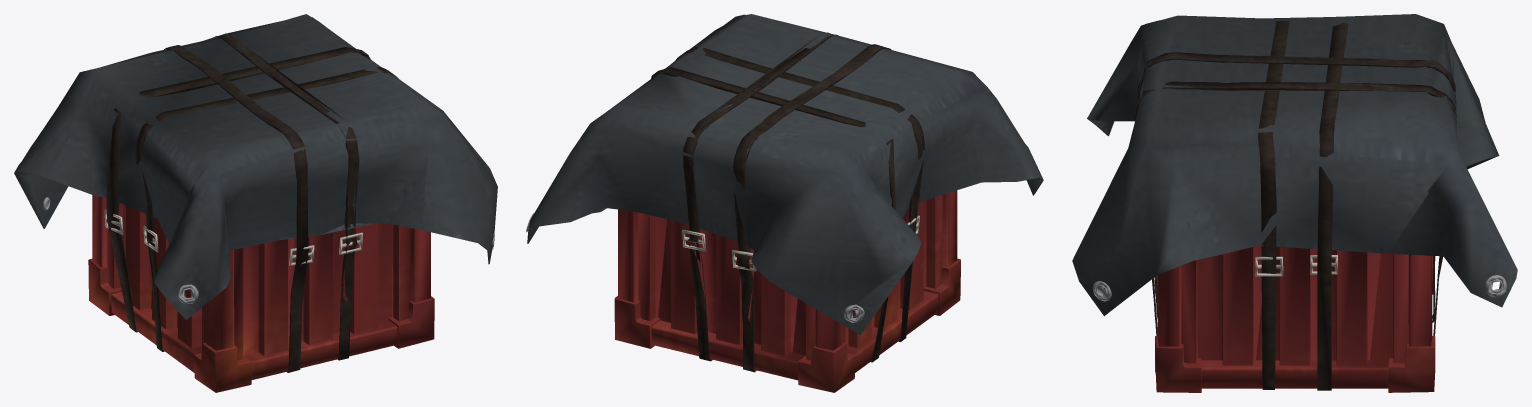
Rendered from airdrop.glb.
3 renders of one model, left to right at view 1: azimuth 30°, elevation 25°; view 2: azimuth 150°, elevation 25°; view 3: azimuth 270°, elevation 25°, orthographic. The views are drawn at different scales.
Parts seen in each view (by area): view 1: defaultMaterial (×8); view 2: defaultMaterial (×7); view 3: defaultMaterial (×8).
Part boxes in pixels (x1,y1,x2,y2): defaultMaterial (×8): [14, 14, 497, 392]; defaultMaterial (×7): [527, 14, 1043, 392]; defaultMaterial (×8): [1072, 14, 1517, 392].
Bounding box in the file's own units: 1.8 × 1.15 × 1.76.
Materials: 6 (4 with a texture image).
